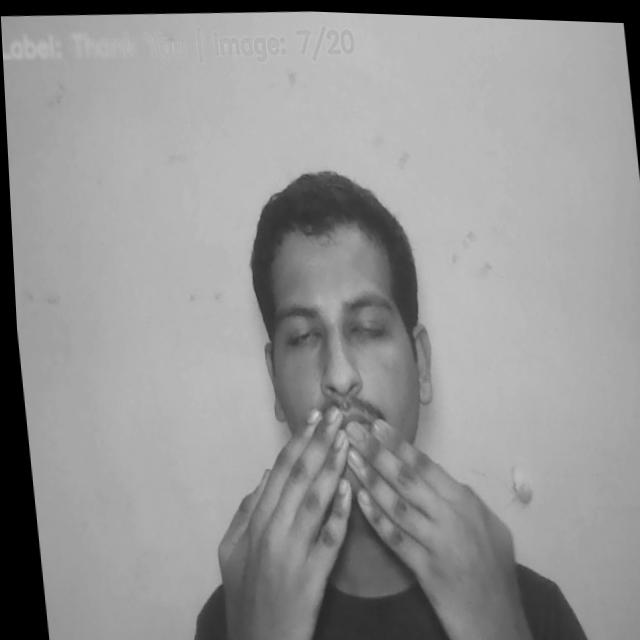Thank You: (190, 396, 519, 631)
